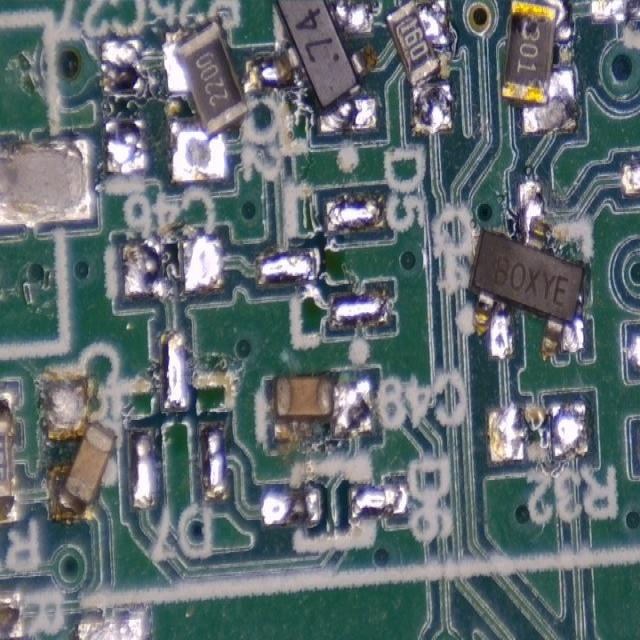Incorrect_installation: (468, 180, 585, 361), (247, 0, 379, 132), (165, 19, 250, 184), (44, 377, 116, 519), (502, 0, 576, 134), (386, 0, 451, 133), (271, 376, 378, 442)
